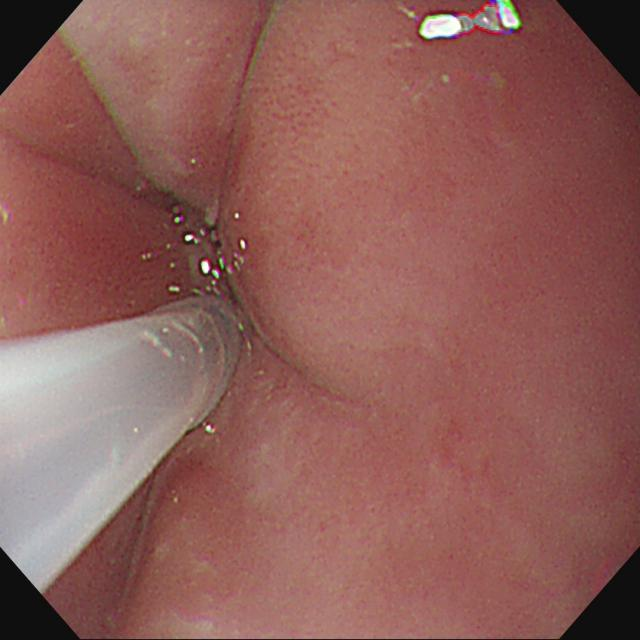K: (2, 295, 247, 595)
U: (172, 205, 249, 283), (417, 2, 525, 43)
